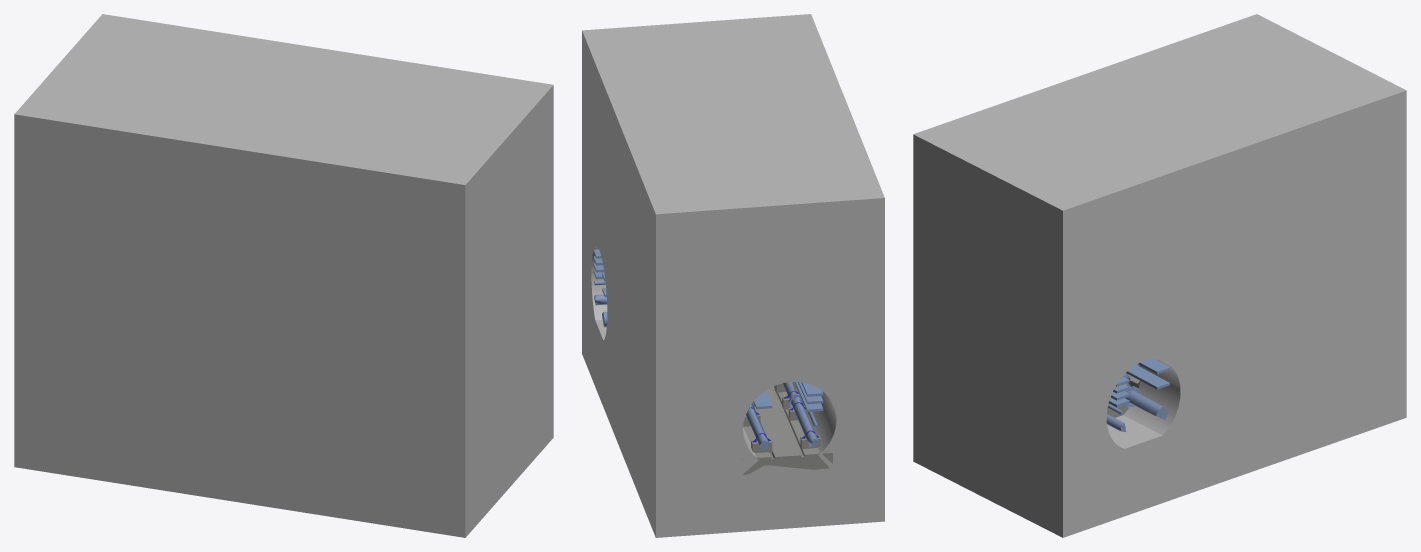
File: utility_tunnel_cable_trays_piping_modeli.glb
3 views of the same model, side by side, from view 1: azimuth 30°, elevation 25°; view 2: azimuth 150°, elevation 25°; view 3: azimuth 270°, elevation 25° (orthographic). The views are drawn at different scales.
Visible parts, largest first — view 1: Object_2; view 2: Object_2, Object_10; view 3: Object_2, Object_10.
Part boxes in pixels (x1,y1,x2,y2): Object_2: [14, 14, 553, 537]; Object_2: [582, 14, 884, 537]; Object_10: [593, 249, 832, 474]; Object_2: [913, 14, 1406, 537]; Object_10: [1106, 359, 1169, 431].
Bounding box in the file's own units: 6.98 × 5.41 × 7.4.
6 materials, 3 textured.
